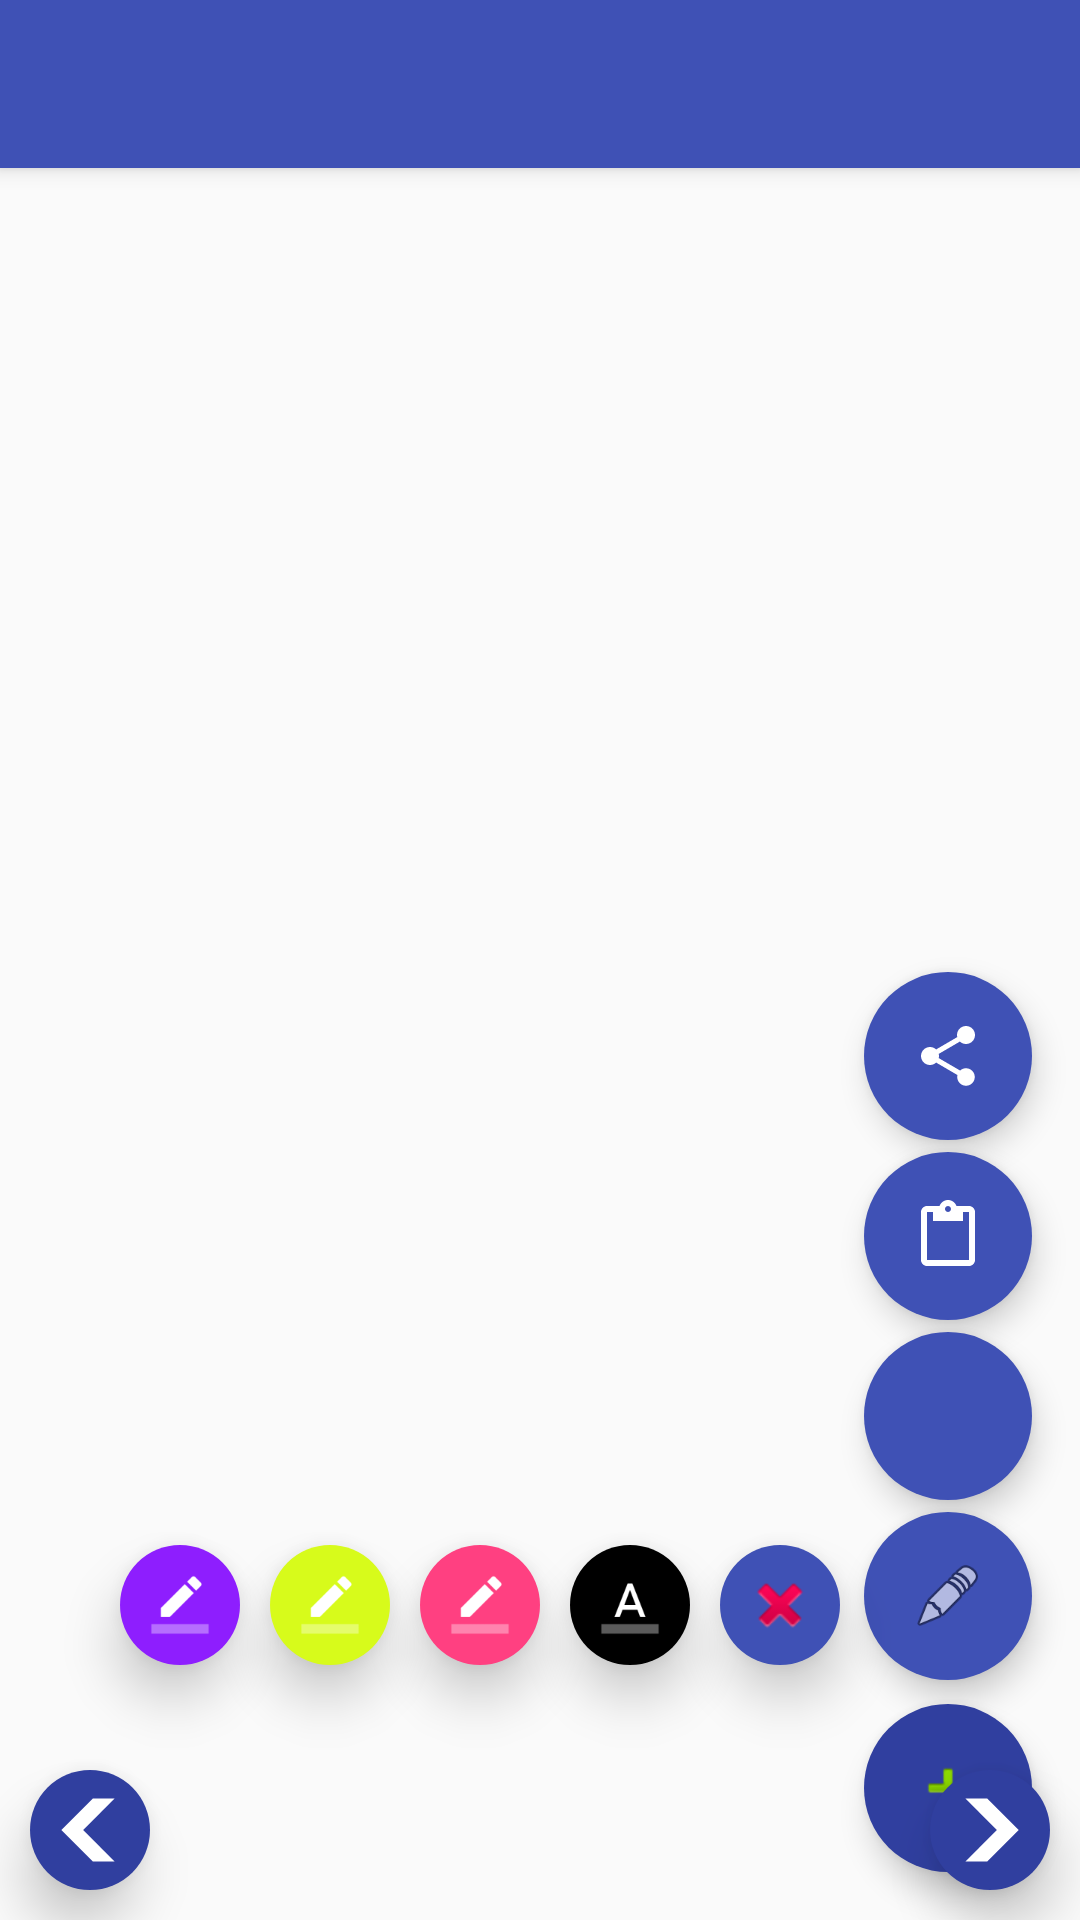

Point at icon controls on the screen. Image size 1080px x 1920px, points as point (x, y).
delete: point (780, 1605)
edit: point (948, 1596)
marca texto: point (180, 1605), point (330, 1605), point (480, 1605)
paste: point (948, 1236)
seta esquerta: point (90, 1830)
share: point (948, 1056)
sublinhado: point (630, 1605)
